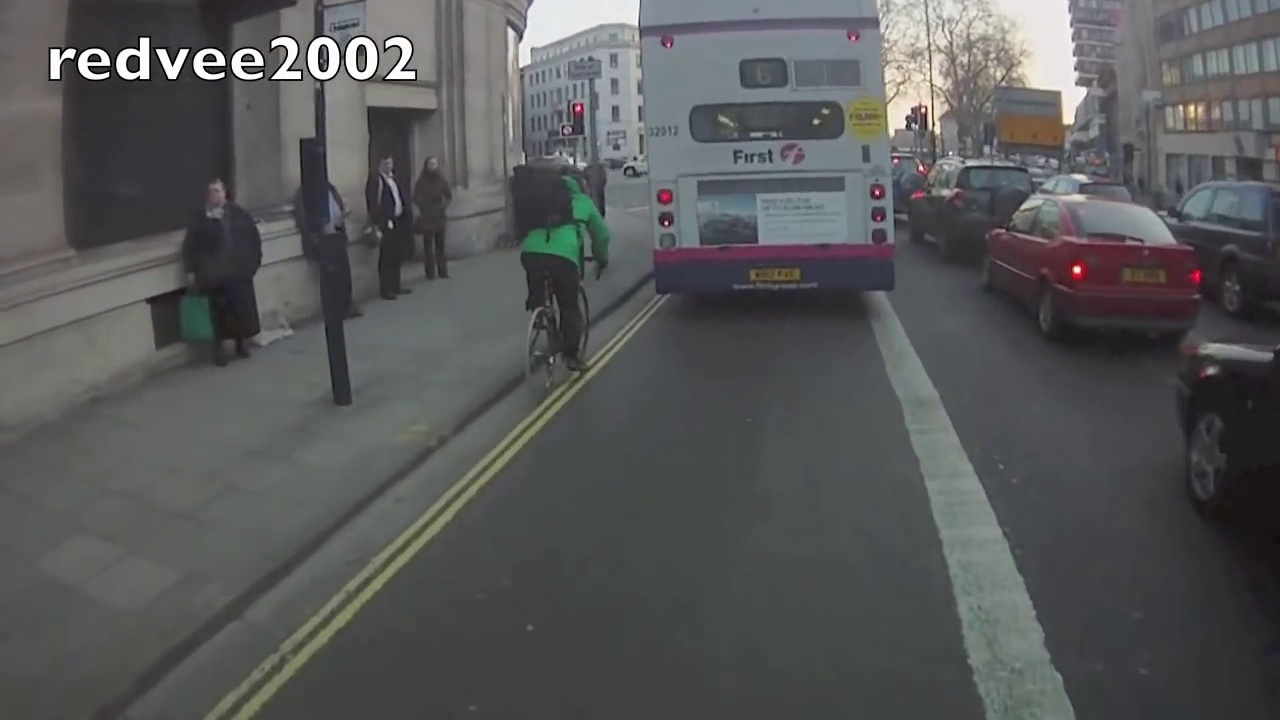cyclist_back: (514, 159, 604, 398)
